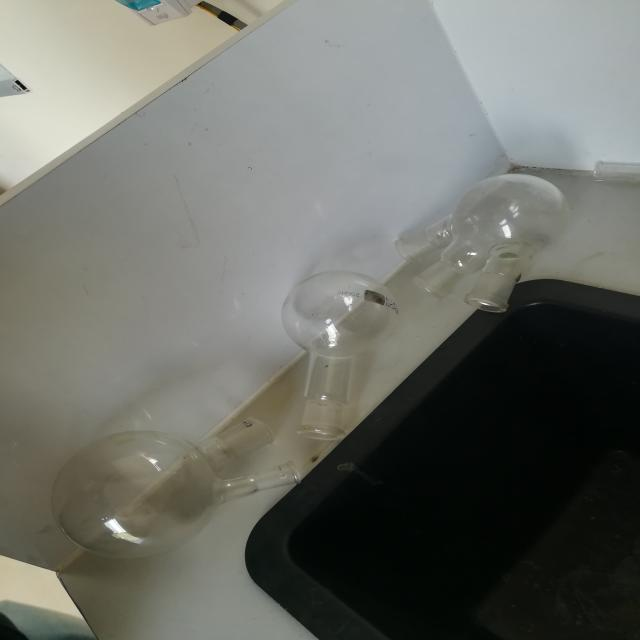Round_Bottom_Flask_Borosilicate_Glass_1_Neck: (265, 246, 416, 447)
Round_Bottom_Flask_Borosilicate_Glass_2_Neck: (27, 405, 328, 569)
Round_Bottom_Flask_Borosilicate_Glass_3_Neck: (394, 166, 602, 332)
